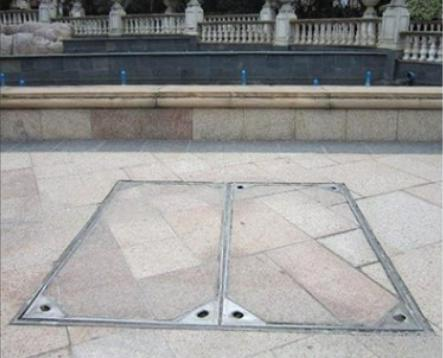wellcover: (24, 168, 428, 335)
